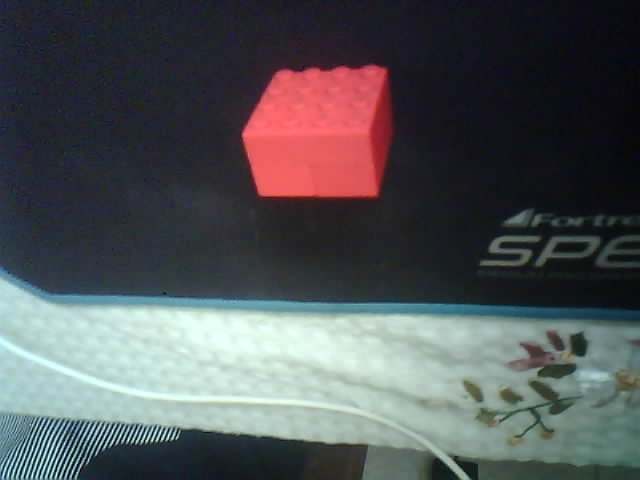lego: (240, 64, 394, 198)
